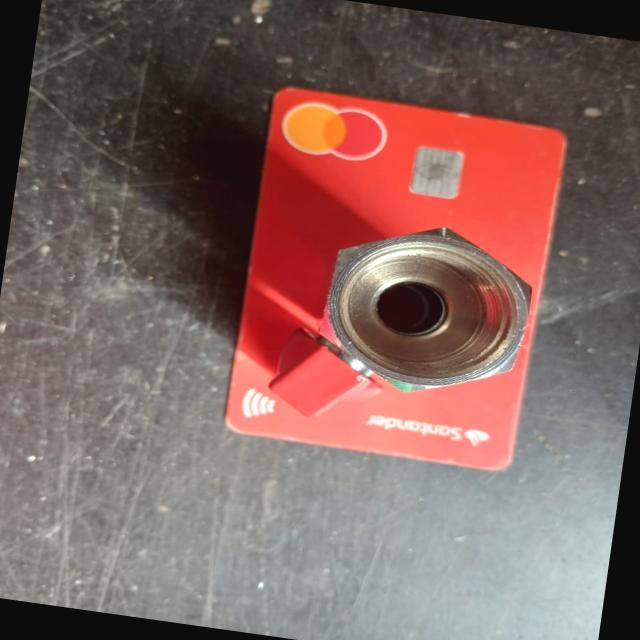cartao: (222, 85, 568, 472)
rosca_interna: (270, 207, 538, 442)
